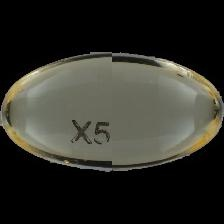13913-008: (0, 0, 224, 224)
